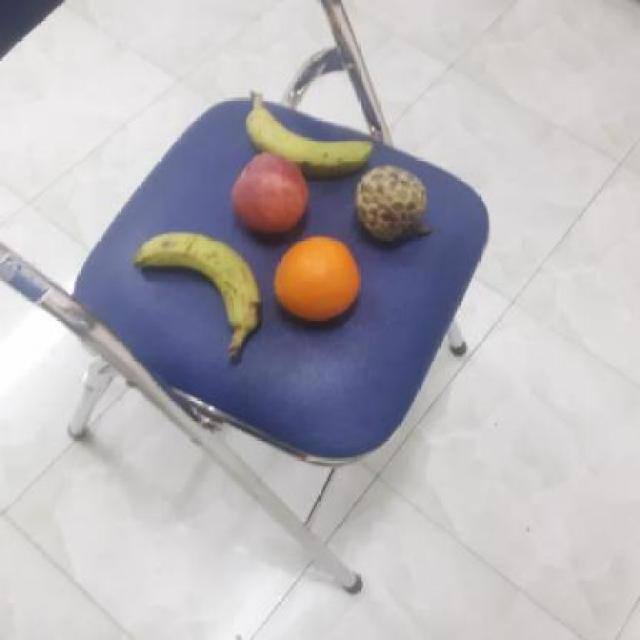apple: (227, 152, 311, 236)
banana: (132, 230, 262, 332), (238, 98, 374, 178)
oren: (269, 230, 363, 324)
sugar apple: (353, 161, 430, 241)
